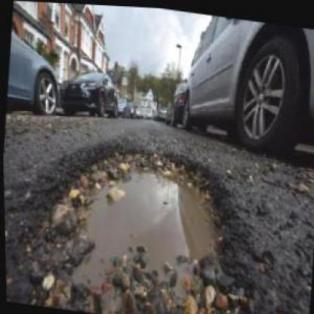Hueco: (24, 126, 269, 313)
